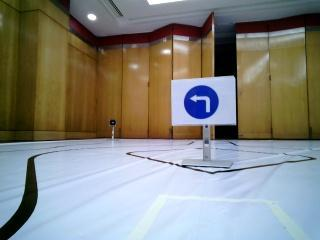left: (177, 82, 235, 120)
